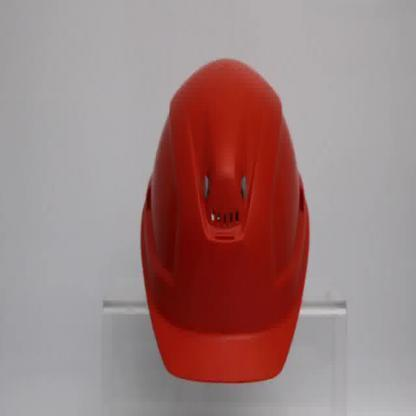helmet: (140, 55, 310, 386)
